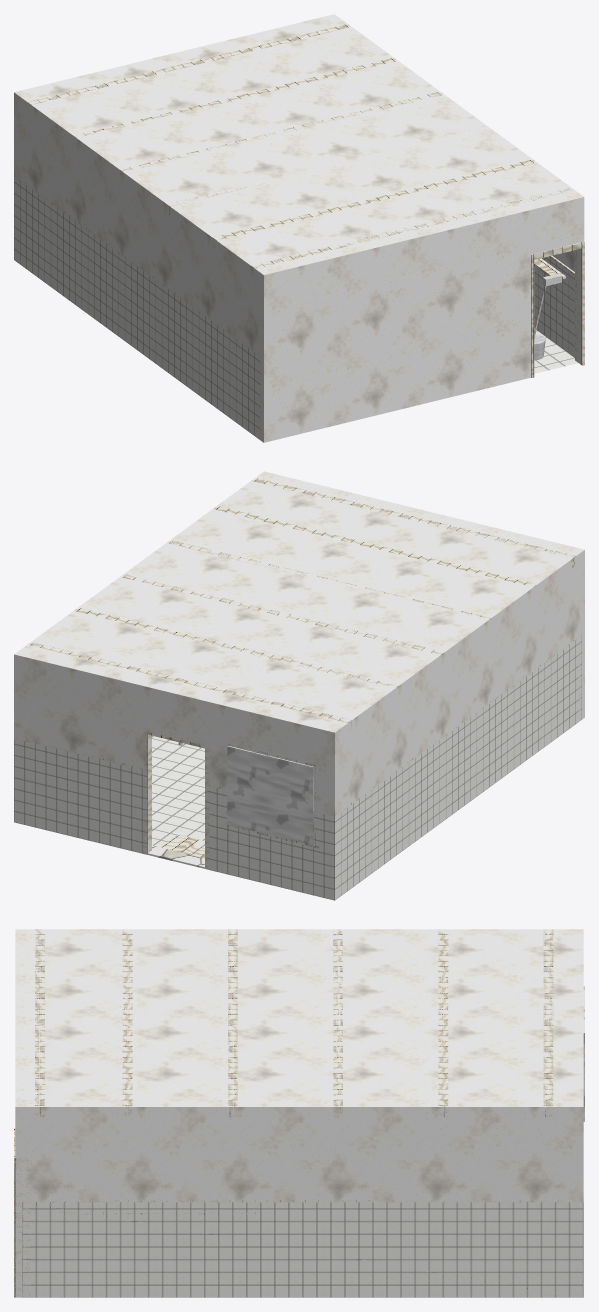
Rendered from negozio_guscio.obj.
The picture shows the model from 3 angles, top to bottom: view 1: azimuth 30°, elevation 25°; view 2: azimuth 150°, elevation 25°; view 3: azimuth 270°, elevation 25°; orthographic projection. The views are drawn at different scales.
Parts seen in each view (by area): view 1: intonaco_108, intonaco_104, piastrelle_muro_103, legno_106; view 2: intonaco_108, intonaco_104, piastrelle_muro_103, legno_106, vetro_115, legno_111, legno_114, pietra_112; view 3: intonaco_108, intonaco_104, piastrelle_muro_103, legno_106.
Part boxes in pixels (left/top/right/bottom): intonaco_108: left=14, top=14, right=579, bottom=272; intonaco_104: left=14, top=92, right=584, bottom=442; piastrelle_muro_103: left=14, top=176, right=574, bottom=440; legno_106: left=28, top=24, right=584, bottom=377; intonaco_108: left=14, top=474, right=581, bottom=732; intonaco_104: left=14, top=471, right=584, bottom=816; piastrelle_muro_103: left=14, top=636, right=581, bottom=900; legno_106: left=28, top=478, right=576, bottom=727; vetro_115: left=227, top=746, right=313, bottom=845; legno_111: left=143, top=729, right=315, bottom=869; legno_114: left=161, top=834, right=204, bottom=857; pietra_112: left=143, top=845, right=209, bottom=869; intonaco_108: left=22, top=929, right=583, bottom=1106; intonaco_104: left=15, top=929, right=583, bottom=1297; piastrelle_muro_103: left=22, top=1202, right=583, bottom=1297; legno_106: left=14, top=929, right=553, bottom=1297.
Size of the model in its own units: 6 by 3 by 8.14.
130 materials, 127 textured.
